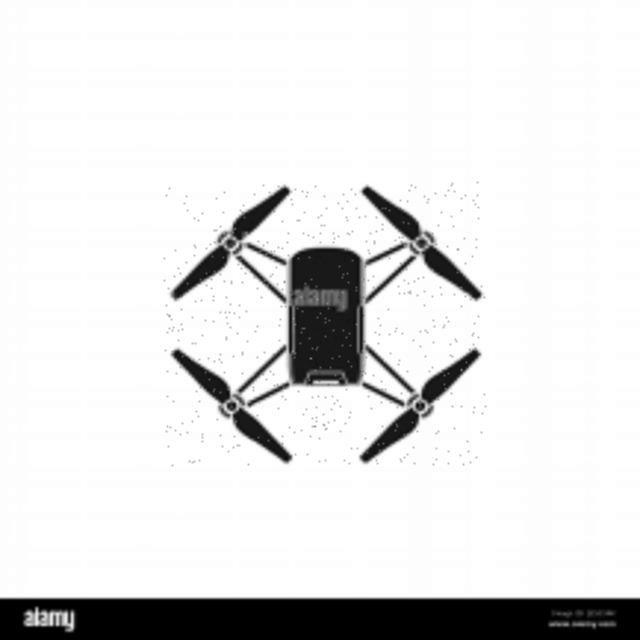drone: (165, 183, 487, 468)
